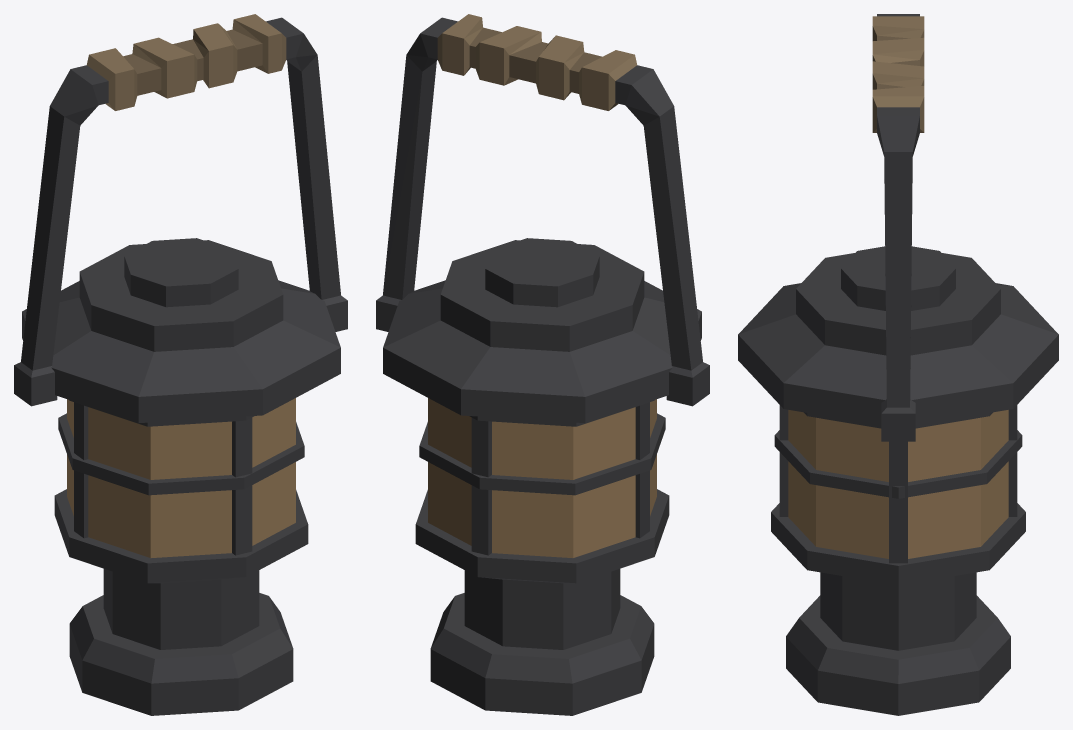
The model's file is lantern.glb.
3 views of the same model, side by side, from view 1: azimuth 30°, elevation 25°; view 2: azimuth 150°, elevation 25°; view 3: azimuth 270°, elevation 25° (orthographic).
Parts seen in each view (by area): view 1: SM_Item_Lantern_01; view 2: SM_Item_Lantern_01; view 3: SM_Item_Lantern_01.
Part boxes in pixels (bbox=[...]): SM_Item_Lantern_01: bbox=[14, 14, 347, 715]; SM_Item_Lantern_01: bbox=[376, 14, 709, 715]; SM_Item_Lantern_01: bbox=[738, 14, 1058, 715].
Bounding box in the file's own units: 28.89 × 54.37 × 25.75.
1 material, 1 textured.
